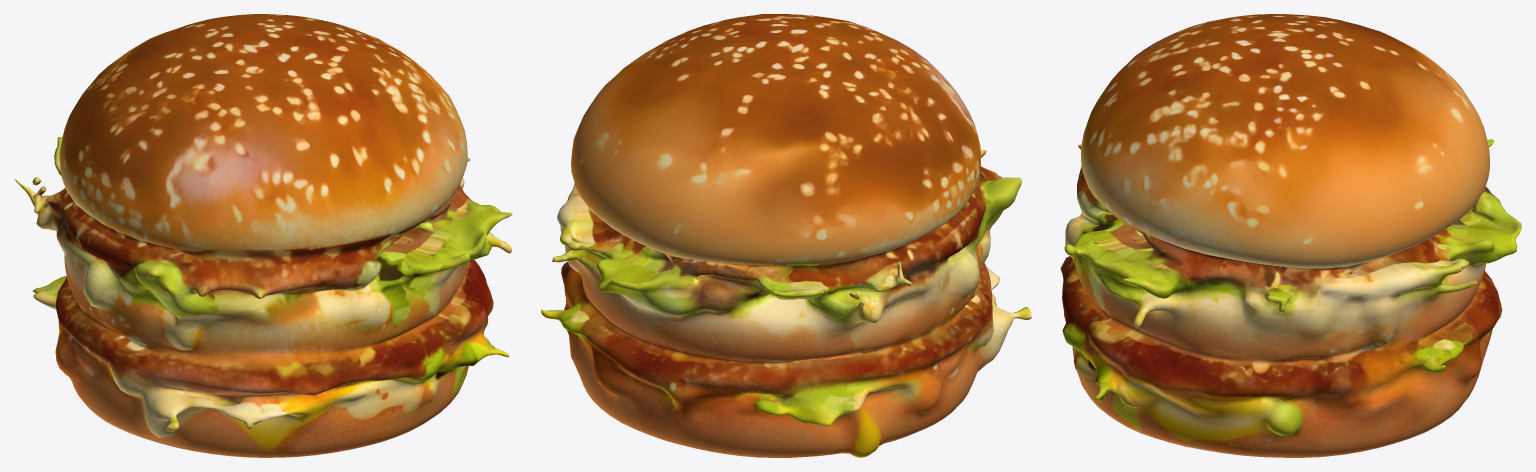
Rendered from base_basic_pbr.glb.
3 views of the same model, side by side, from view 1: azimuth 30°, elevation 25°; view 2: azimuth 150°, elevation 25°; view 3: azimuth 270°, elevation 25° (orthographic).
Visible parts, largest first — view 1: remeshed; view 2: remeshed; view 3: remeshed.
Part boxes in pixels (x1,y1,x2,y2): remeshed: (14, 14, 512, 457); remeshed: (541, 14, 1031, 457); remeshed: (1060, 14, 1521, 457).
Bounding box in the file's own units: 1.6 × 1.35 × 1.65.
Materials: 1 (1 with a texture image).
